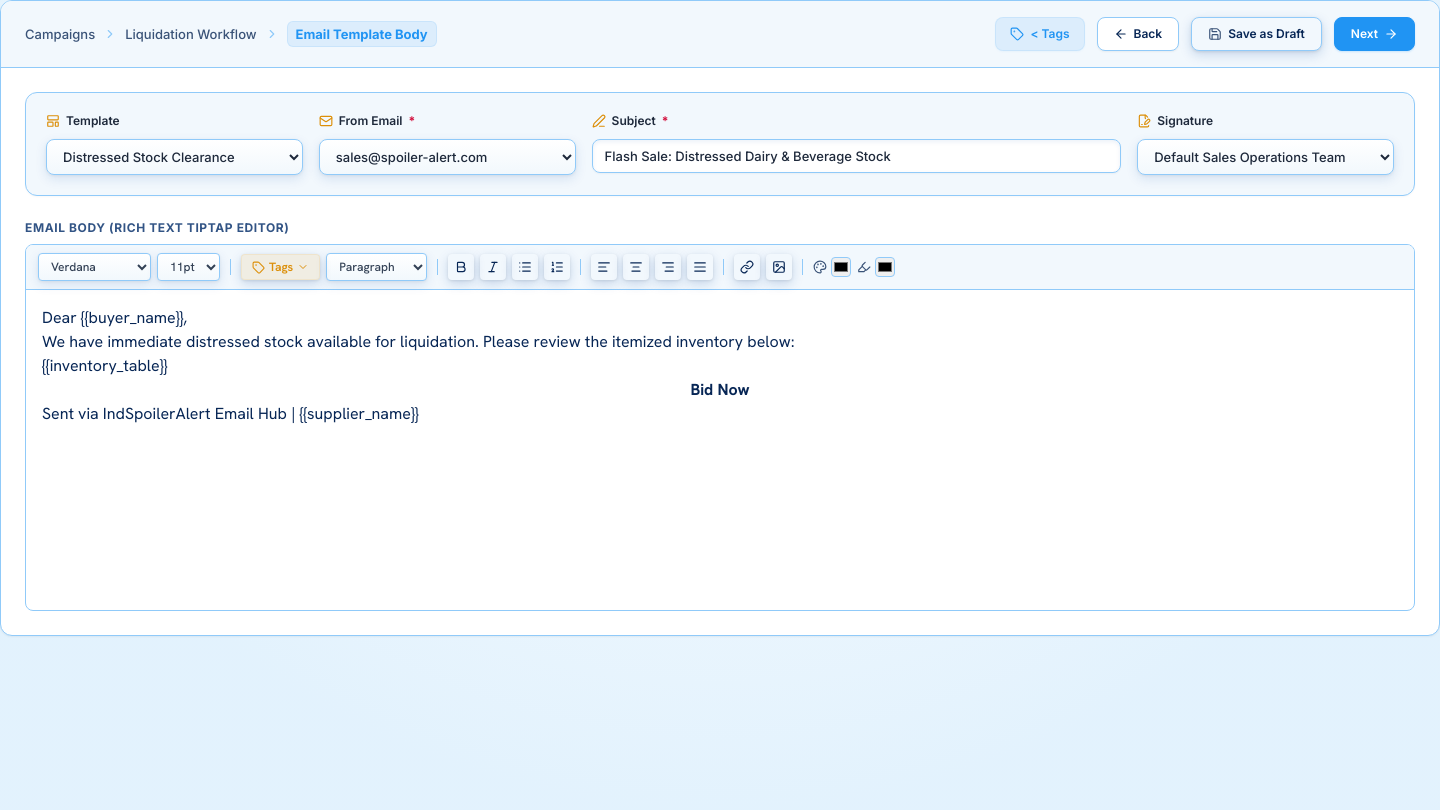
it: WorkflowEmailBuilder & TipTap Body Editor Integration › inserts dynamic tokens from toolbar dropdown
Click the button with test id "editor-tokens-button".
click(281, 267)  # box [241,254,320,280]
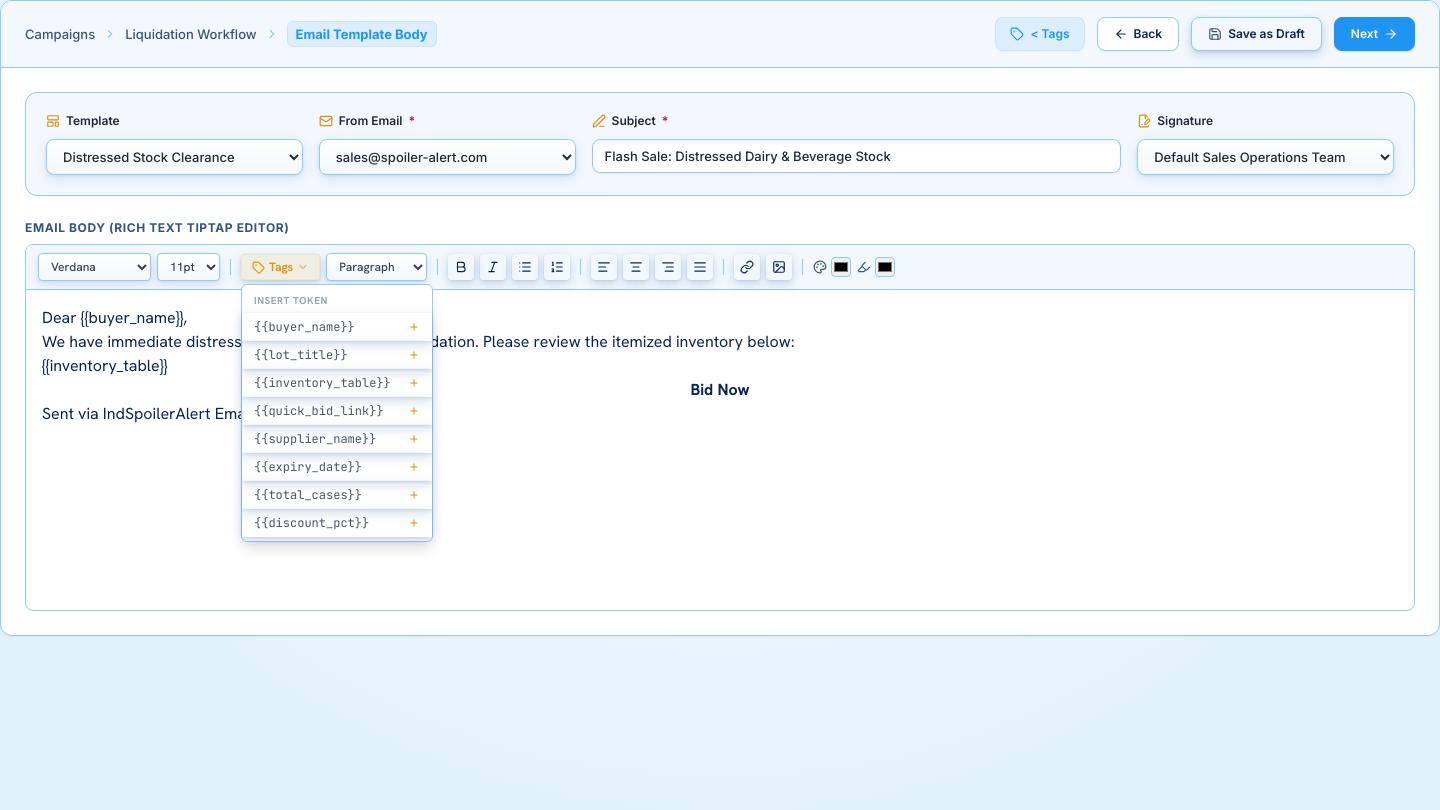
Expected: the text "Insert Token" is shown, [254,294,328,307]
Expected: the text "{{buyer_name}}" is shown, [254,319,355,335]
